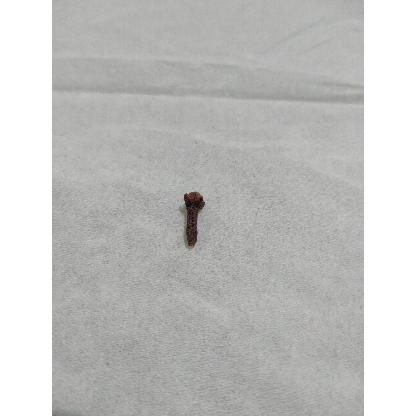sedang: (184, 192, 205, 247)
